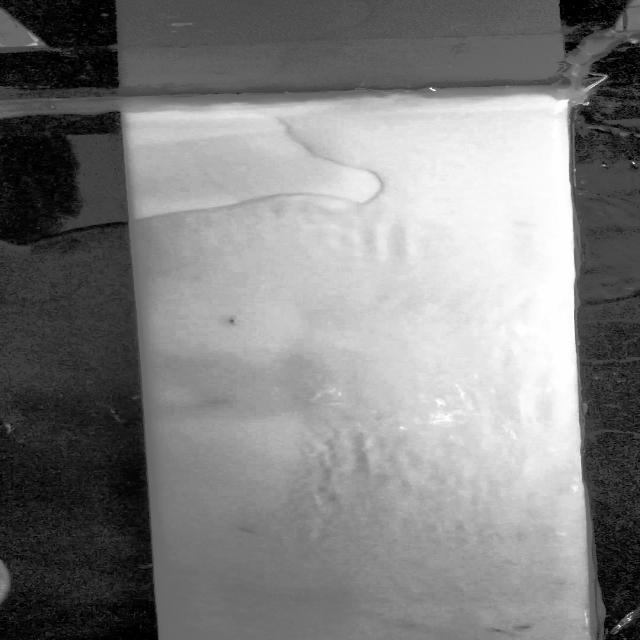shrimp: (212, 311, 248, 333), (225, 525, 266, 539), (487, 626, 504, 636), (519, 622, 534, 633)
